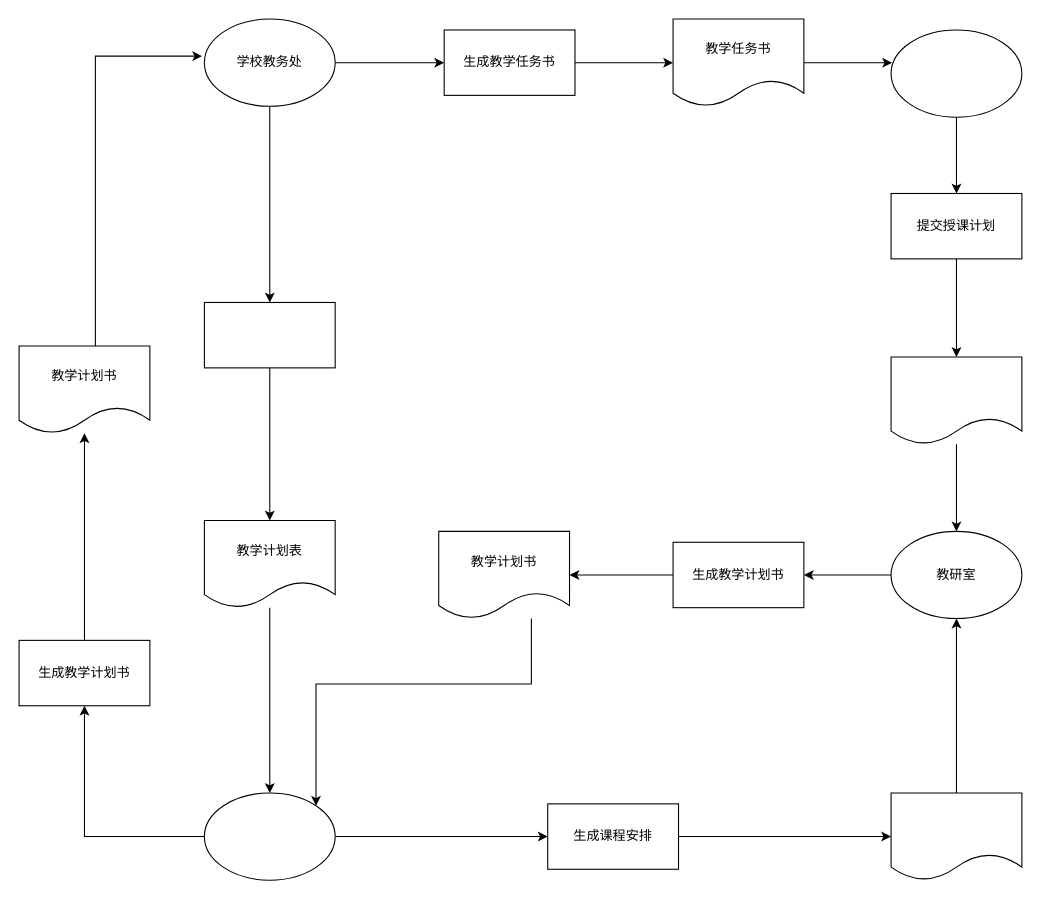
This 1041x899 diagram has some shape labels left out. Here are the shapes that lost their labels. From the top down, the box of each, then its label:
(890, 29, 1022, 117): 任课教师
(203, 301, 335, 368): 生成教学计划
(890, 356, 1022, 444): 授课计划表
(203, 792, 335, 880): 学院教学主管
(890, 792, 1022, 880): 课程安排表
